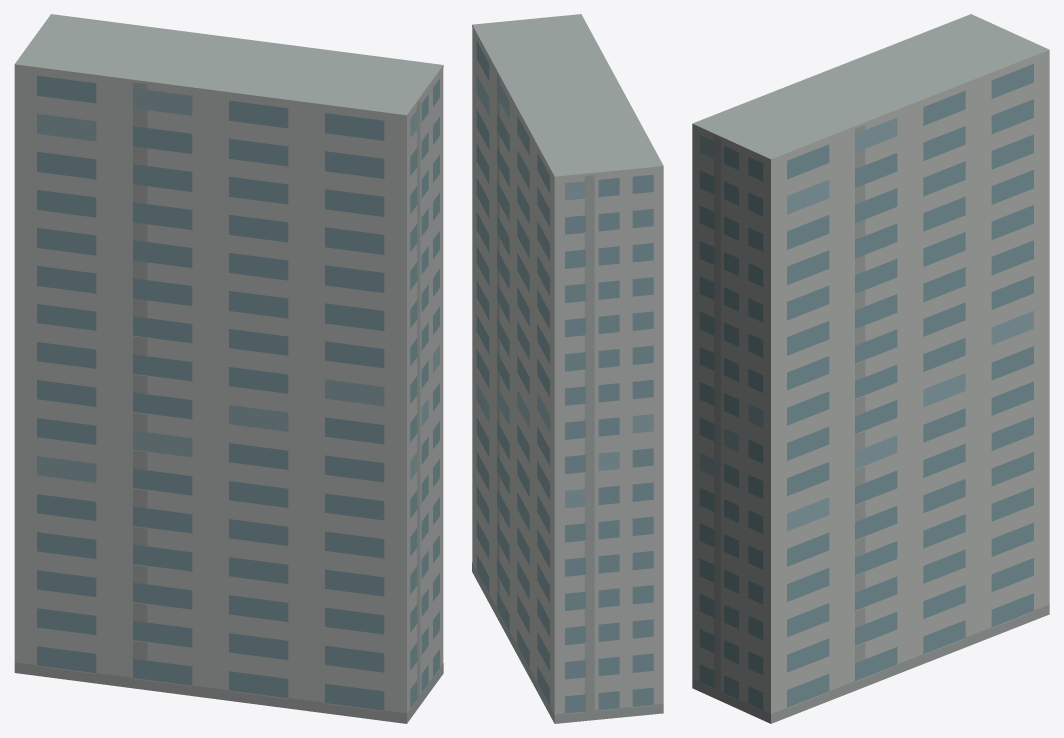
The model's file is residential-2d76e222-584a-4bd4-ae4c-0d870e4ab575.glb.
The picture shows the model from 3 angles, left to right: view 1: azimuth 30°, elevation 25°; view 2: azimuth 150°, elevation 25°; view 3: azimuth 270°, elevation 25°; orthographic projection. The views are drawn at different scales.
Parts seen in each view (by area): view 1: residential-2d76e222-584a-4bd4-ae4c-0d870e4ab575.tmp; view 2: residential-2d76e222-584a-4bd4-ae4c-0d870e4ab575.tmp; view 3: residential-2d76e222-584a-4bd4-ae4c-0d870e4ab575.tmp.
Boxes of the visible parts, left/top/right/bottom form: residential-2d76e222-584a-4bd4-ae4c-0d870e4ab575.tmp: left=14, top=14, right=443, bottom=723; residential-2d76e222-584a-4bd4-ae4c-0d870e4ab575.tmp: left=472, top=14, right=663, bottom=723; residential-2d76e222-584a-4bd4-ae4c-0d870e4ab575.tmp: left=692, top=14, right=1049, bottom=723.
Size of the model in its own units: 29.81 by 54 by 31.
